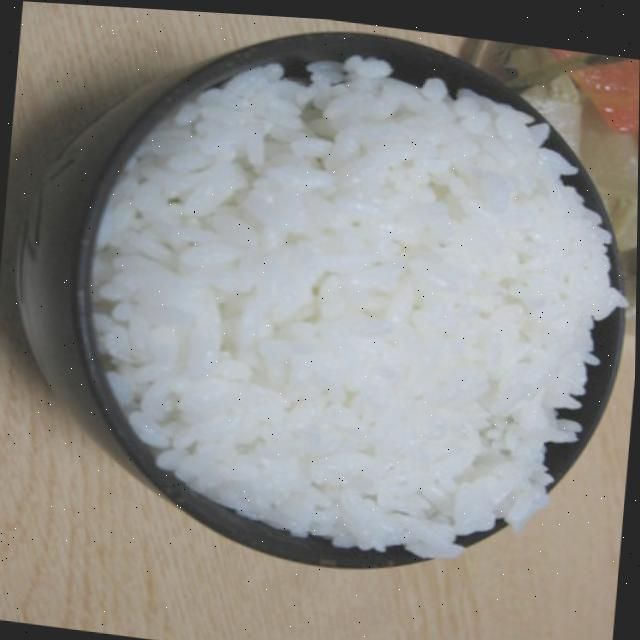米饭主食: (0, 0, 640, 600)
